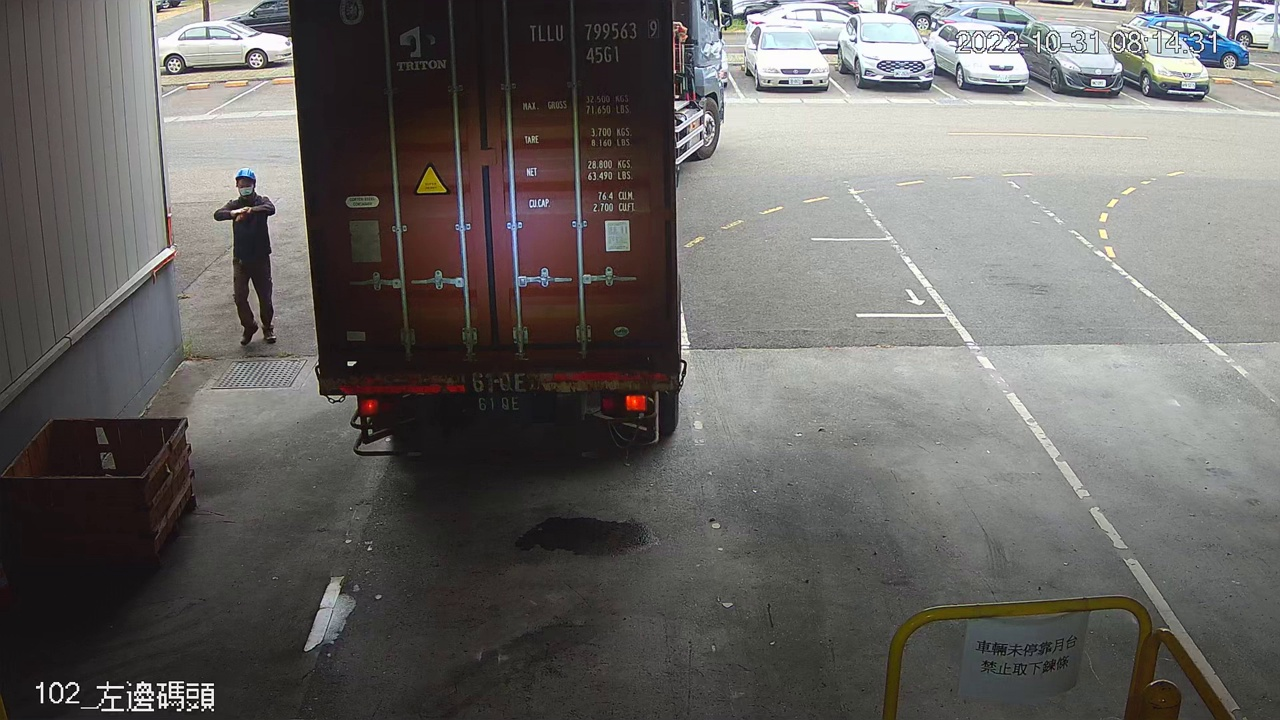container: (524, 12, 664, 68)
